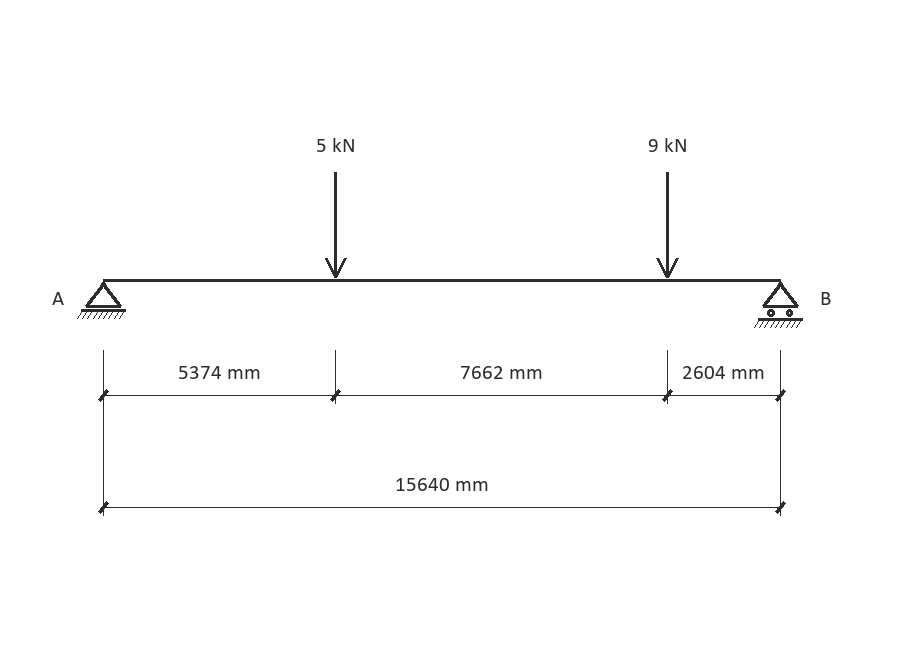pin_support: (77, 282, 126, 319)
point_load: (656, 172, 679, 278), (325, 172, 347, 278)
roller_support: (754, 282, 803, 328)
